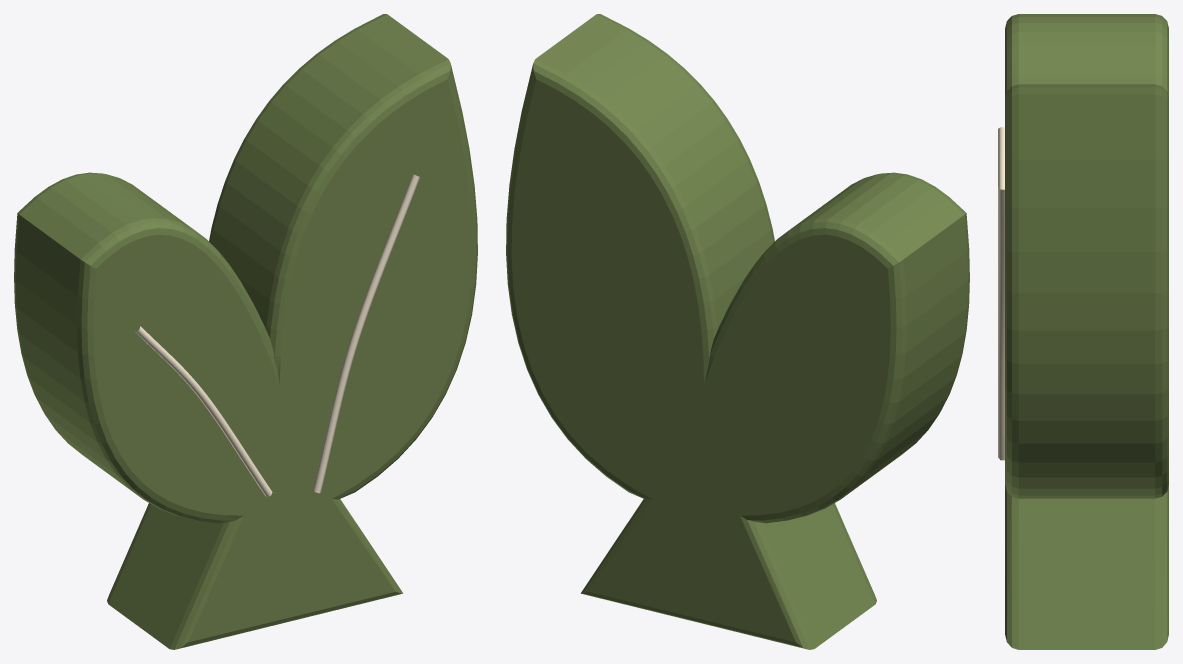
Rendered from meeple-6.glb.
3 renders of one model, left to right at view 1: azimuth 30°, elevation 25°; view 2: azimuth 150°, elevation 25°; view 3: azimuth 270°, elevation 25°, orthographic. The views are drawn at different scales.
Visible parts, largest first — view 1: meeple-6-명이 잎; view 2: meeple-6-명이 잎; view 3: meeple-6-명이 잎.
Boxes of the visible parts, x1,y1,x2,y2 form: meeple-6-명이 잎: [14, 14, 477, 649]; meeple-6-명이 잎: [506, 14, 969, 649]; meeple-6-명이 잎: [998, 14, 1168, 649].
Bounding box in the file's own units: 0.024 × 0.03 × 0.008.
